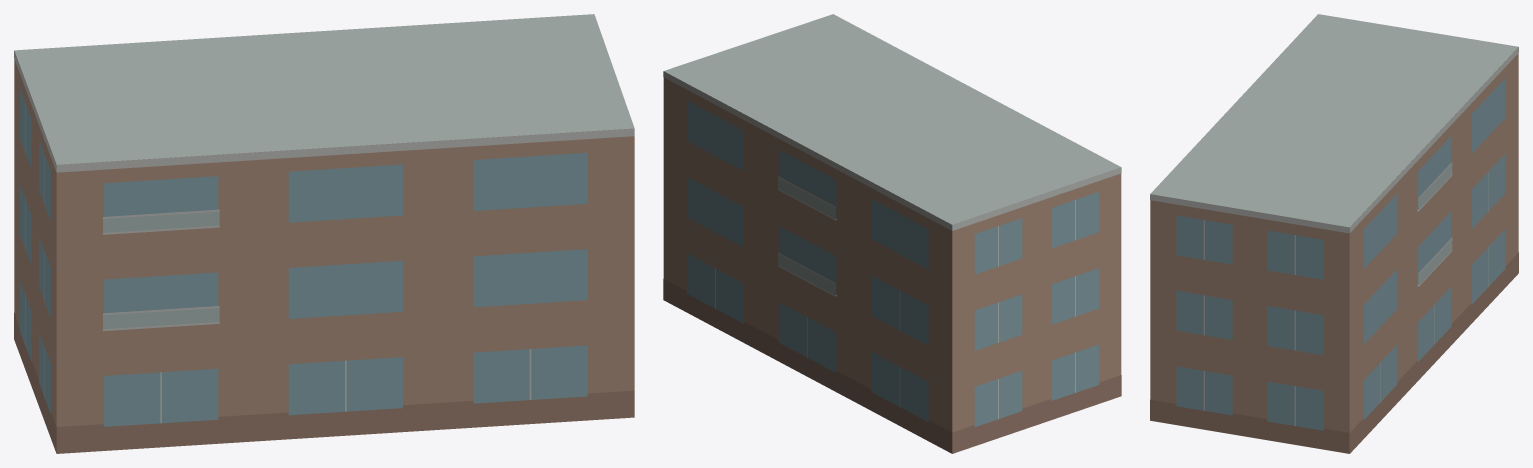
File: survey-upis-32708278.glb
The picture shows the model from 3 angles, left to right: view 1: azimuth 30°, elevation 25°; view 2: azimuth 150°, elevation 25°; view 3: azimuth 270°, elevation 25°; orthographic projection. The views are drawn at different scales.
Parts seen in each view (by area): view 1: survey-upis-32708278.tmp; view 2: survey-upis-32708278.tmp; view 3: survey-upis-32708278.tmp.
Boxes of the visible parts, x1,y1,x2,y2 form: survey-upis-32708278.tmp: (14, 14, 634, 453); survey-upis-32708278.tmp: (663, 14, 1121, 453); survey-upis-32708278.tmp: (1150, 14, 1518, 453).
Bounding box in the file's own units: 18.5 × 9.15 × 13.51.
